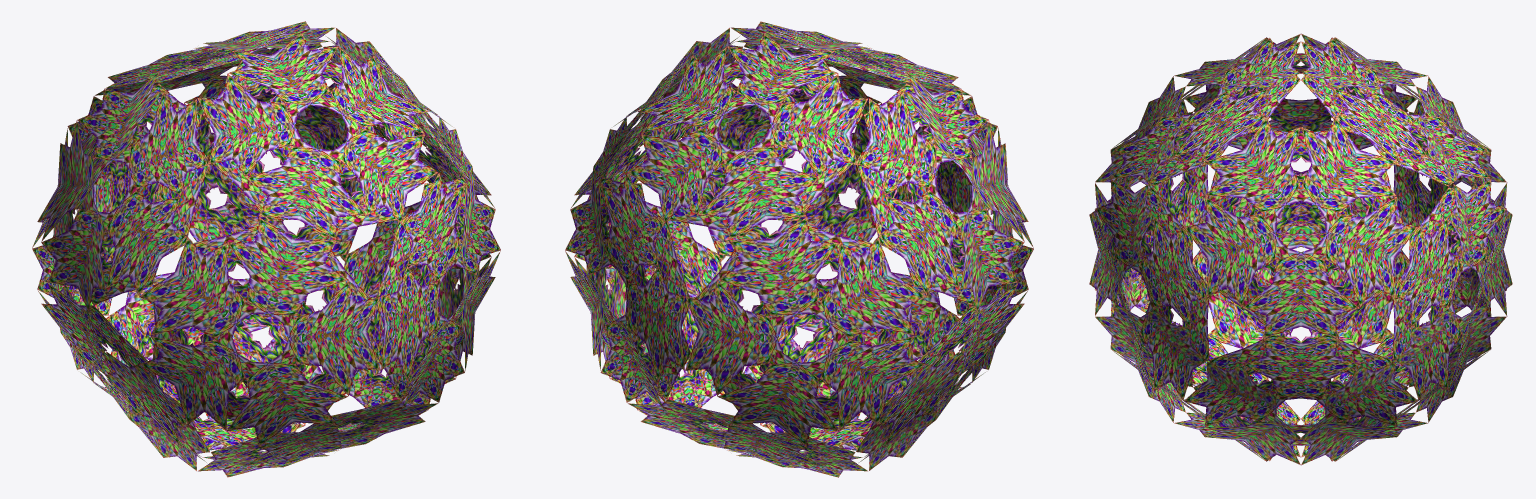
File: 24SmallIcosacronicHexecontahedron.gltf
3 renders of one model, left to right at view 1: azimuth 30°, elevation 25°; view 2: azimuth 150°, elevation 25°; view 3: azimuth 270°, elevation 25°, orthographic. The views are drawn at different scales.
Parts seen in each view (by area): view 1: SmallIcosacronicHexecontahedron9; view 2: SmallIcosacronicHexecontahedron9; view 3: SmallIcosacronicHexecontahedron9.
Part boxes in pixels (x1,y1,x2,y2): SmallIcosacronicHexecontahedron9: [32, 21, 500, 477]; SmallIcosacronicHexecontahedron9: [565, 21, 1033, 477]; SmallIcosacronicHexecontahedron9: [1089, 33, 1512, 465].
Bounding box in the file's own units: 3.62 × 3.62 × 3.62.
1 material, 1 textured.
